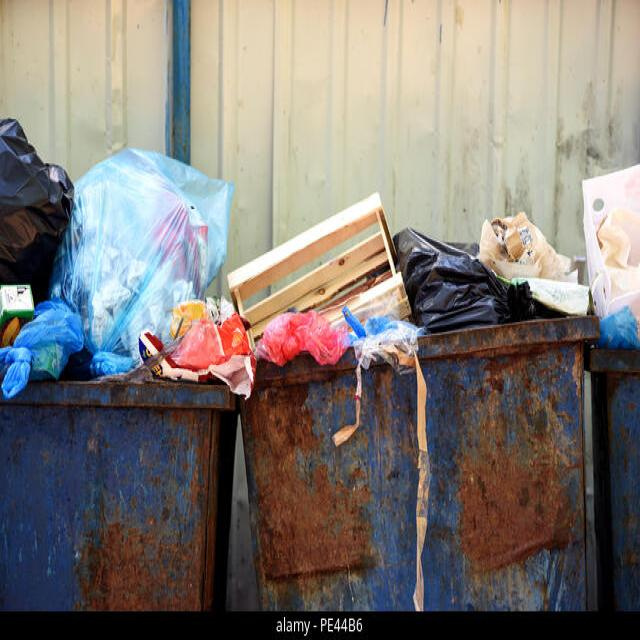cardboard: (488, 223, 562, 281)
trash: (7, 156, 65, 275)
